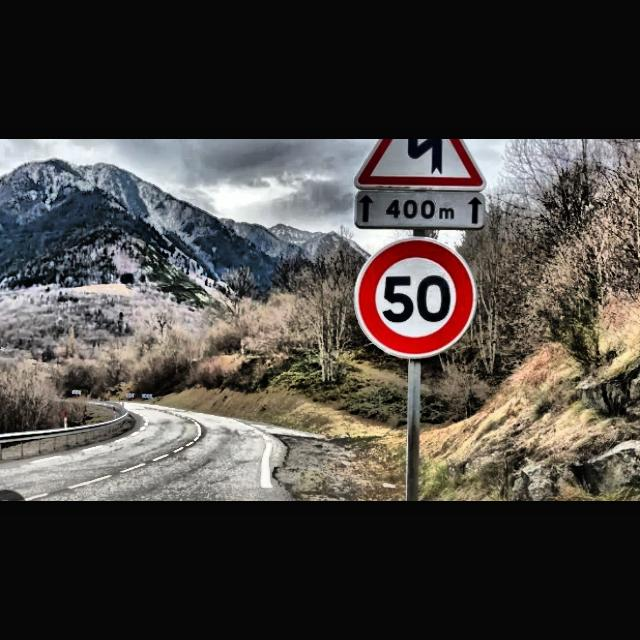speed_50: (353, 236, 477, 358)
